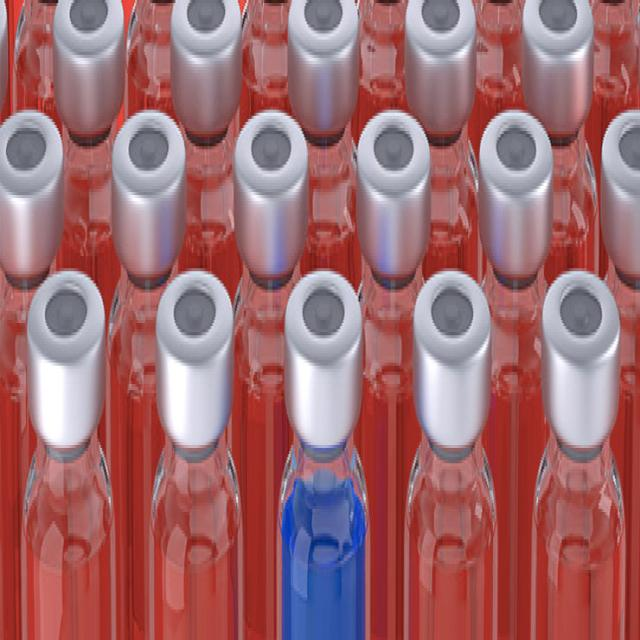vial: (156, 296, 234, 448), (30, 274, 107, 412), (542, 277, 622, 407), (416, 274, 488, 418), (168, 0, 252, 111), (111, 113, 192, 224), (288, 269, 360, 393), (236, 119, 309, 241), (288, 0, 366, 114), (3, 125, 69, 246), (356, 116, 426, 230), (407, 0, 482, 105), (482, 119, 548, 227), (60, 0, 120, 114), (529, 0, 598, 97), (603, 108, 640, 238), (0, 0, 12, 105)
